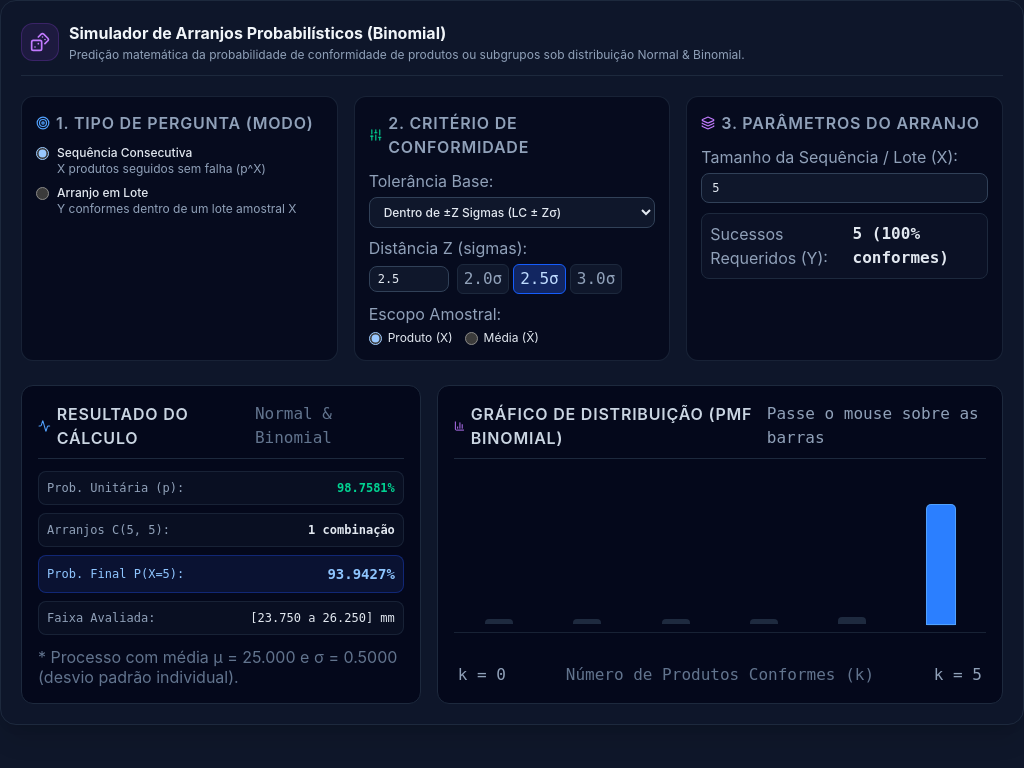
SimuladorBinomial Component › deve alternar para modo Lote e atualizar cálculos conforme Y e operador
This screenshot has width=1024, height=768.
Note: Selecionar modo Lote
Click the radio button labelled "Arranjo em Lote Y conformes dentro de um lote amostral X" at (42, 194), box [36,187,49,200]
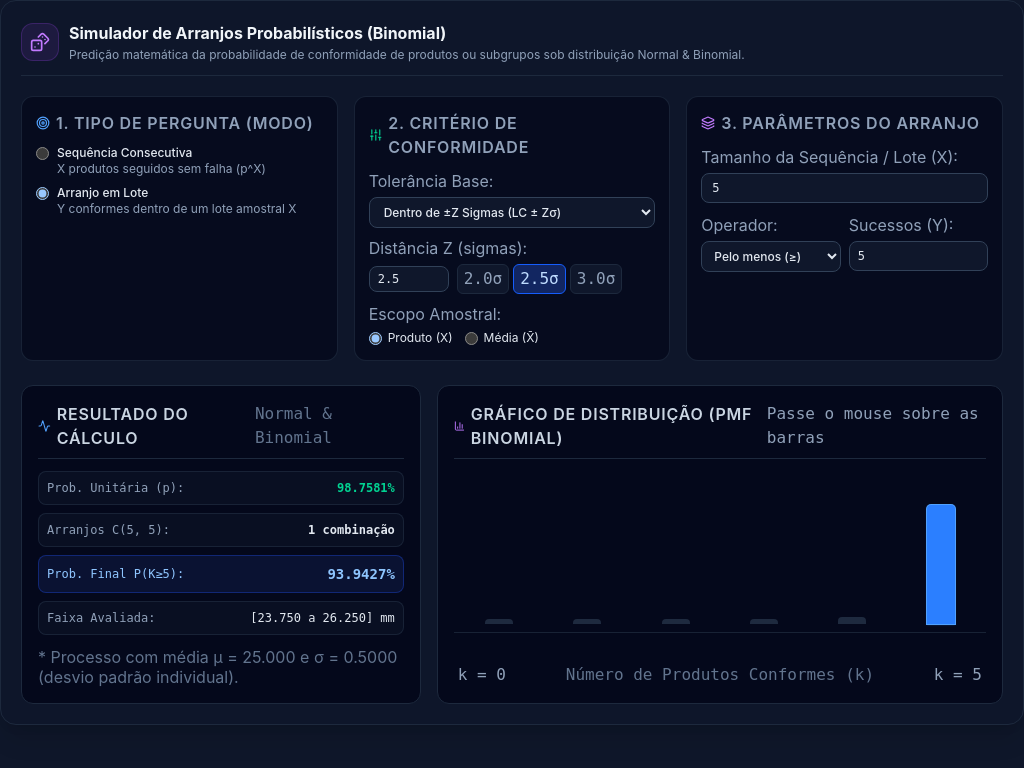
Now the text "Operador:" is shown, box [701,215,778,235]
Now the text "Sucessos (Y):" is shown, box [849,215,954,235]
